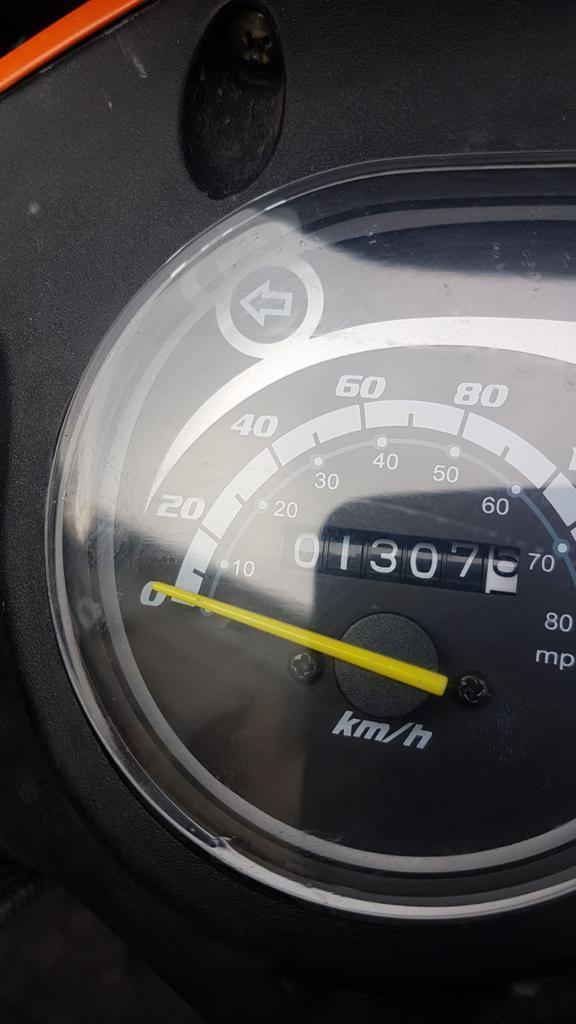0: (408, 539, 439, 582), (291, 530, 321, 571)
1: (335, 530, 356, 573)
3: (367, 534, 400, 576)
6: (492, 541, 521, 580)
7: (449, 537, 482, 580)
odometer: (274, 516, 523, 599)
